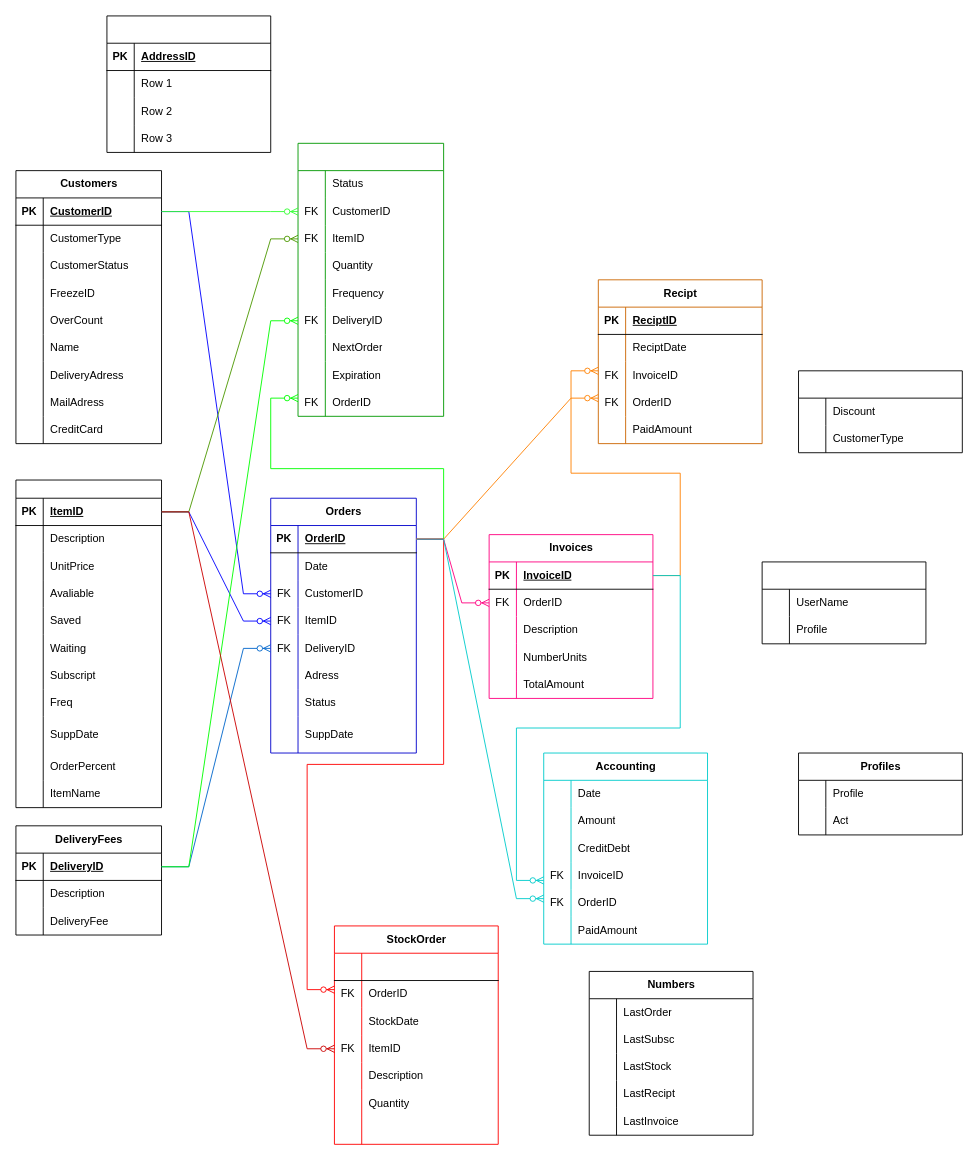
Some shapes in this 978 by 1160 pixel diagram are drawn without their labels. Here are the shapes that lost their labels. From the top down, the box of each, then its label:
(106, 15, 271, 152): Addresse
(297, 142, 444, 416): Subscription
(798, 370, 962, 453): Discounts
(761, 561, 926, 644): Users
(15, 479, 162, 808): Items
